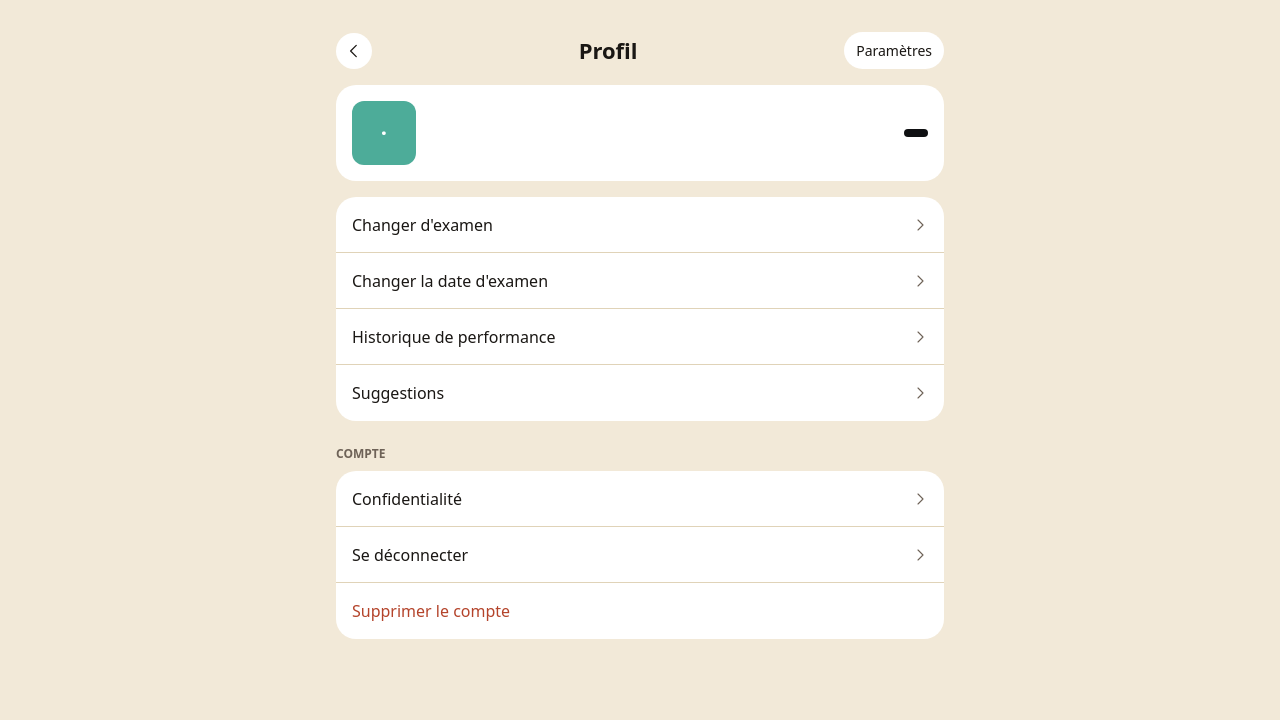
Test: ProfilScreen (S11.4) › navbar title, settings button and sign-out confirm copy all come from the i18n catalog
Expected: the element with test id "profil-navbar" is shown, [336, 32, 944, 69]
Expected: the heading "Profil" is shown, [579, 35, 638, 65]
Click the button with test id "profil-account-sign-out": (410, 554) [336, 527, 944, 583]
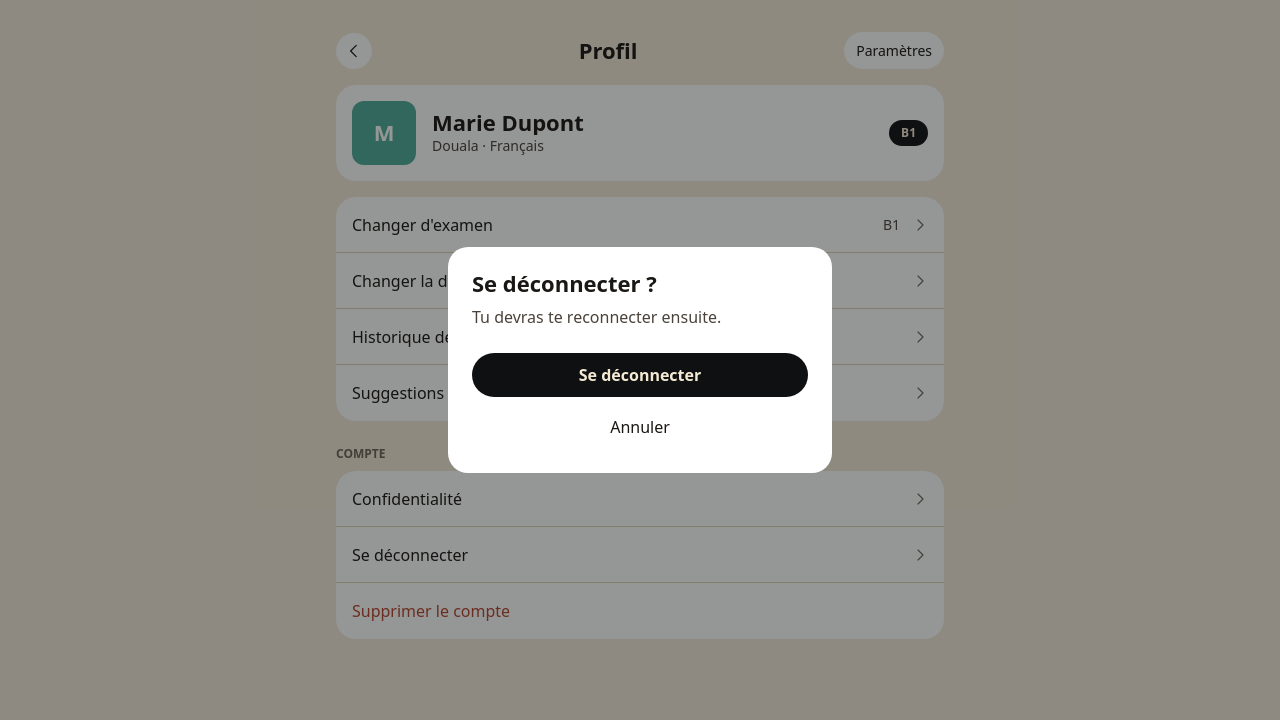
Expected: the heading "Se déconnecter ?" is shown, [472, 268, 657, 298]
Expected: the text "Tu devras te reconnecter ensuite." is shown, [472, 306, 721, 328]
